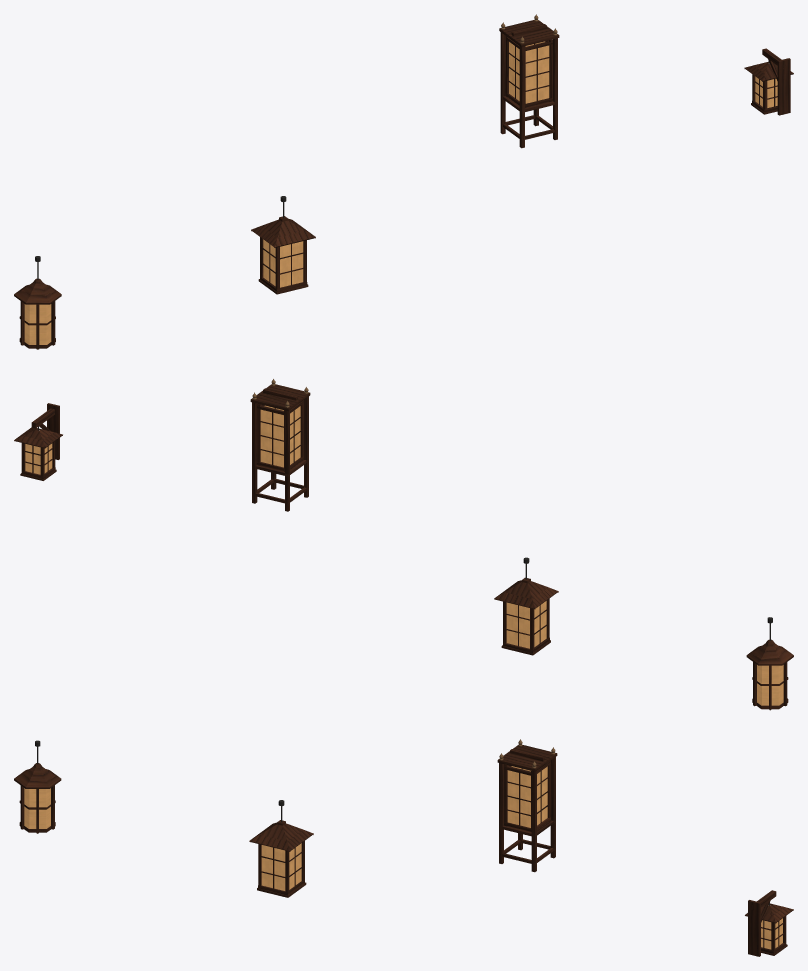
File: lanterns.glb
3 renders of one model, top to bottom at view 1: azimuth 30°, elevation 25°; view 2: azimuth 150°, elevation 25°; view 3: azimuth 330°, elevation 25°, orthographic.
Parts seen in each view (by area): view 1: IC10_Lantern_Standing__Mesh, IC10_Lantern_Hanging_Rect__Mesh, IC10_Lantern_Hanging_Hex__Mesh, IC10_Lantern_Wall__Mesh; view 2: IC10_Lantern_Standing__Mesh, IC10_Lantern_Hanging_Rect__Mesh, IC10_Lantern_Hanging_Hex__Mesh, IC10_Lantern_Wall__Mesh; view 3: IC10_Lantern_Standing__Mesh, IC10_Lantern_Hanging_Rect__Mesh, IC10_Lantern_Hanging_Hex__Mesh, IC10_Lantern_Wall__Mesh.
Boxes of the visible parts, x1,y1,x2,y2 form: IC10_Lantern_Standing__Mesh: (499, 14, 559, 148); IC10_Lantern_Hanging_Rect__Mesh: (251, 196, 315, 294); IC10_Lantern_Hanging_Hex__Mesh: (14, 256, 61, 349); IC10_Lantern_Wall__Mesh: (744, 48, 793, 115); IC10_Lantern_Standing__Mesh: (250, 379, 310, 511); IC10_Lantern_Hanging_Rect__Mesh: (494, 557, 558, 655); IC10_Lantern_Hanging_Hex__Mesh: (746, 617, 793, 710); IC10_Lantern_Wall__Mesh: (14, 403, 62, 480); IC10_Lantern_Standing__Mesh: (497, 739, 557, 872); IC10_Lantern_Hanging_Rect__Mesh: (249, 800, 313, 897); IC10_Lantern_Hanging_Hex__Mesh: (14, 740, 61, 833); IC10_Lantern_Wall__Mesh: (745, 890, 793, 956).
Size of the model in its own units: 9.27 by 2.36 by 0.52.
4 materials, 2 textured.
